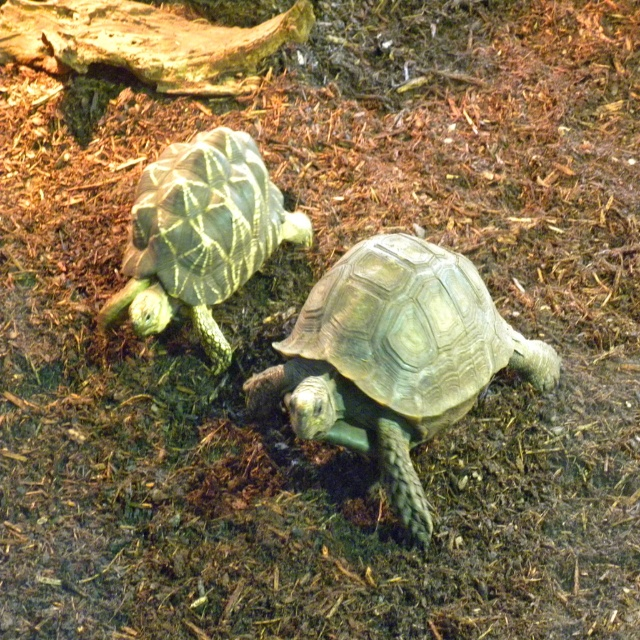Sea turtle: (243, 232, 560, 554), (98, 127, 312, 377)
